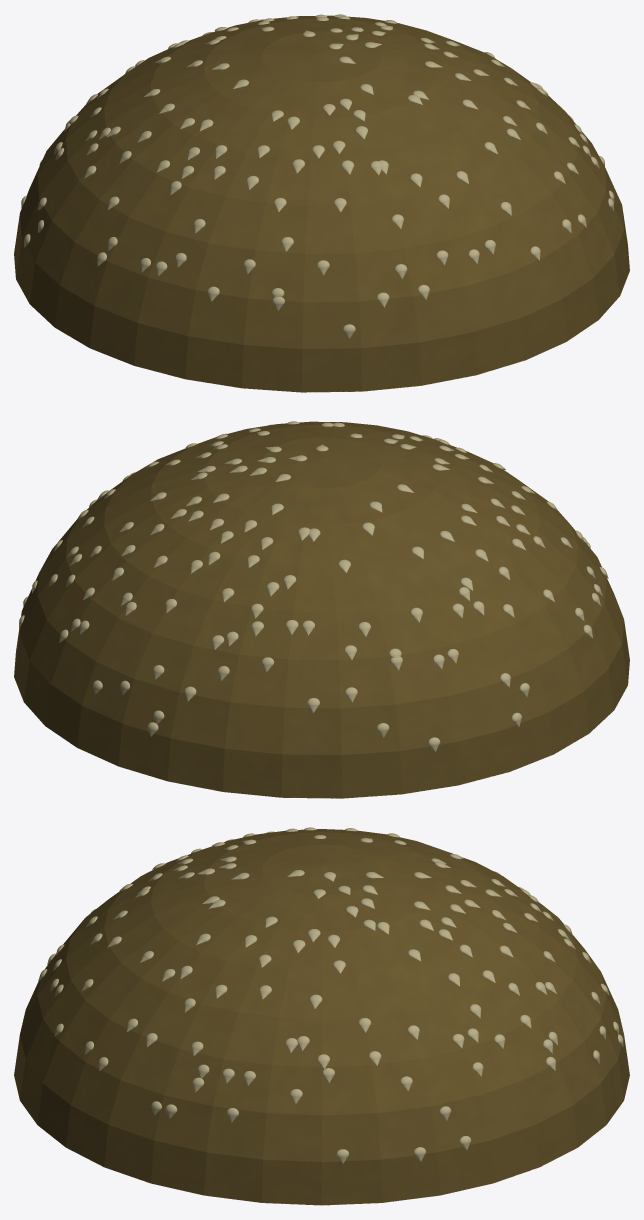
Rendered from bun_top.fbx.
The picture shows the model from 3 angles, top to bottom: view 1: azimuth 30°, elevation 25°; view 2: azimuth 150°, elevation 25°; view 3: azimuth 270°, elevation 25°; orthographic projection.
Visible parts, largest first — view 1: bun top; view 2: bun top; view 3: bun top.
Part boxes in pixels (box(x1,y1,x2,y2)): bun top: box(14, 14, 629, 392); bun top: box(14, 421, 629, 798); bun top: box(14, 827, 629, 1205).
Size of the model in its own units: 24 by 9.03 by 24.
Materials: 3 (2 with a texture image).
